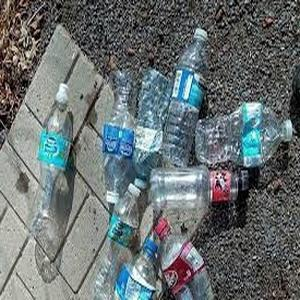Plastic: (161, 28, 209, 168), (33, 80, 78, 227), (91, 180, 143, 296), (200, 103, 292, 166), (156, 219, 215, 300), (103, 73, 134, 204)
